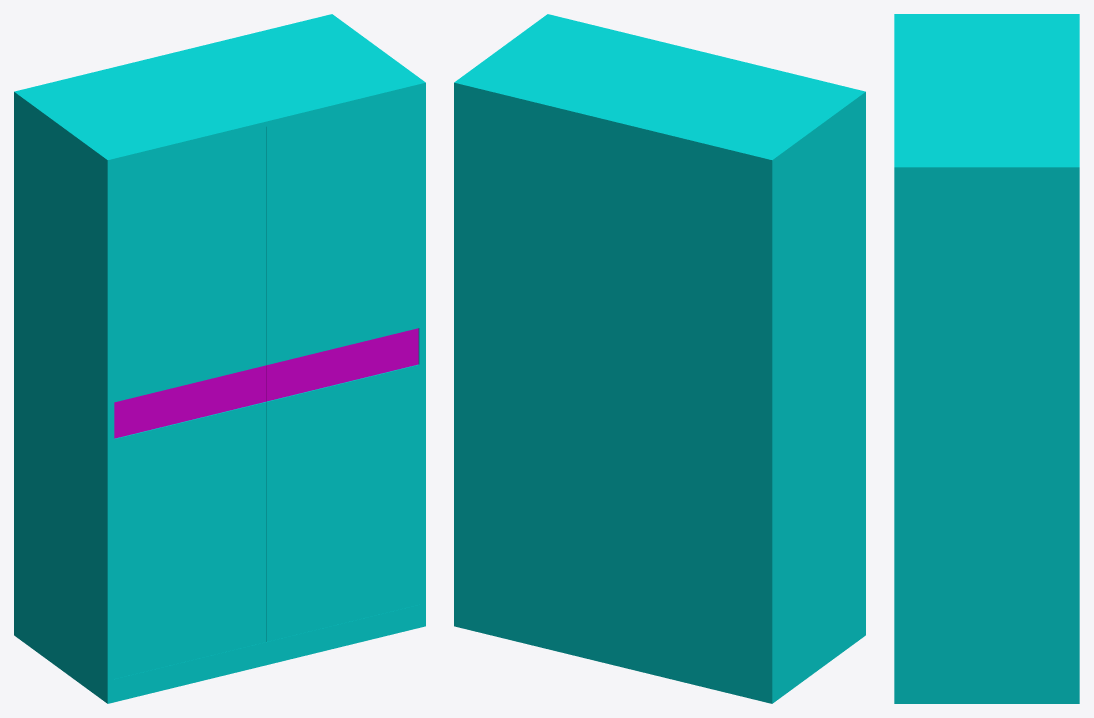
Rendered from Armario01_low.fbx.
3 renders of one model, left to right at view 1: azimuth 30°, elevation 25°; view 2: azimuth 150°, elevation 25°; view 3: azimuth 270°, elevation 25°, orthographic.
Parts seen in each view (by area): view 1: Armario01, PuertaRight_Low, PuertaIzq_Low; view 2: Armario01; view 3: Armario01.
Boxes of the visible parts, <box> form: Armario01: <box>14,14,425,703</box>; PuertaRight_Low: <box>266,89,419,641</box>; PuertaIzq_Low: <box>114,127,266,678</box>; Armario01: <box>454,14,865,703</box>; Armario01: <box>894,14,1079,703</box>.
Size of the model in its own units: 98 by 160 by 50.
